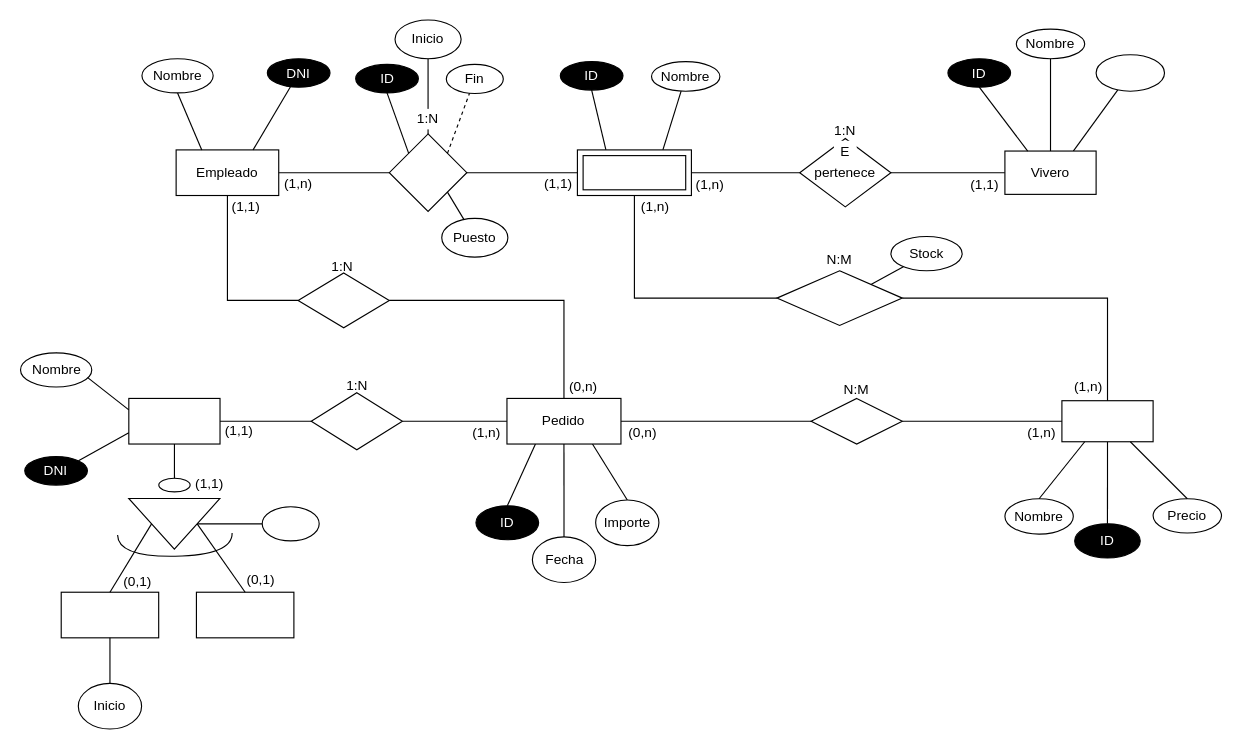
Some shapes in this 1241 by 749 pixel diagram are drawn without their labels. The centre of each missing label's shape, as x and y in pixels:
"almacenado" goes at [839,297].
"Cliente" goes at [174,420].
"contiene" goes at [856,420].
"Direccion" goes at [1130,72].
"gestiona" goes at [343,300].
"P.Fidelizacion" goes at [109,614].
"Producto" goes at [1107,421].
"realiza" goes at [356,421].
"Sin P.Fidelizacion" goes at [244,614].
"Tipo" goes at [290,523].
"trabaja" goes at [427,172].
"Zona" goes at [633,172].
